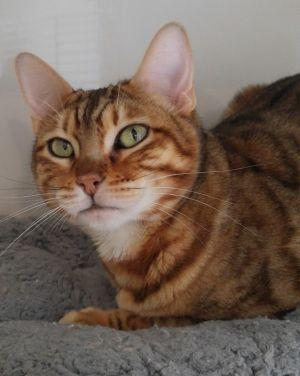bengal: (8, 20, 208, 241)
